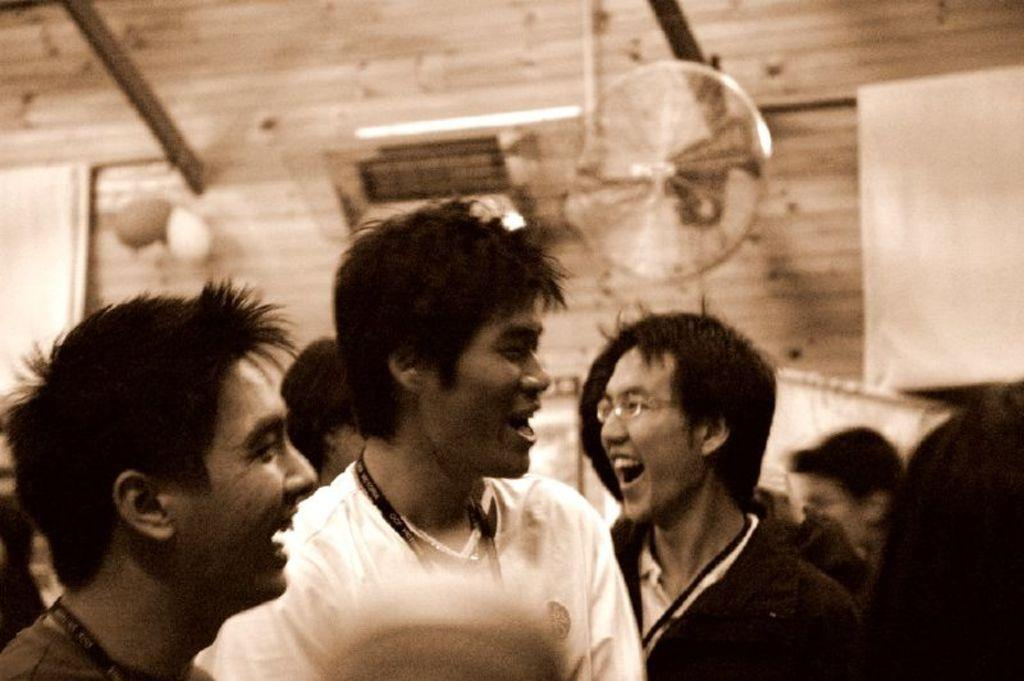Sem Máscara: (172, 328, 327, 592), (414, 285, 551, 472), (583, 330, 696, 522), (791, 458, 867, 546)
